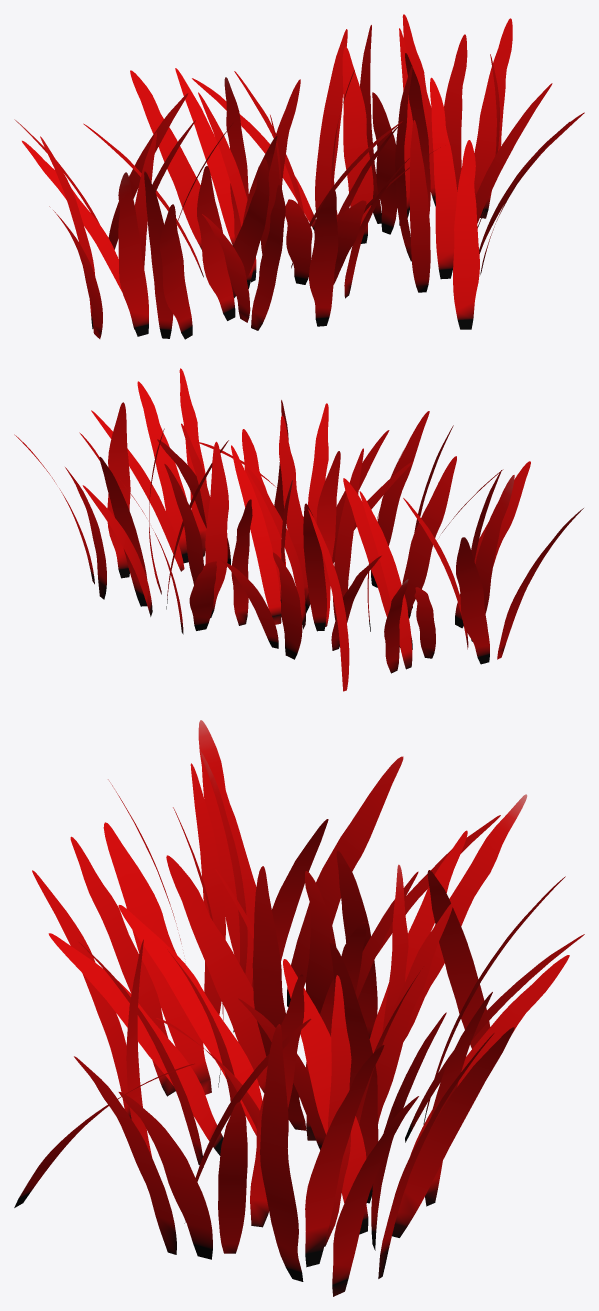
The model's file is SM_stylized_grass_var_01_lod1.fbx.
3 views of the same model, one above another, from view 1: azimuth 30°, elevation 25°; view 2: azimuth 150°, elevation 25°; view 3: azimuth 270°, elevation 25° (orthographic). The views are drawn at different scales.
Visible parts, largest first — view 1: stylized_grass_var_01_lod1.001; view 2: stylized_grass_var_01_lod1.001; view 3: stylized_grass_var_01_lod1.001.
Boxes of the visible parts, x1,y1,x2,y2 form: stylized_grass_var_01_lod1.001: (14, 14, 584, 339); stylized_grass_var_01_lod1.001: (14, 368, 583, 691); stylized_grass_var_01_lod1.001: (14, 720, 584, 1296).
Size of the model in its own units: 190 by 62.88 by 121.
